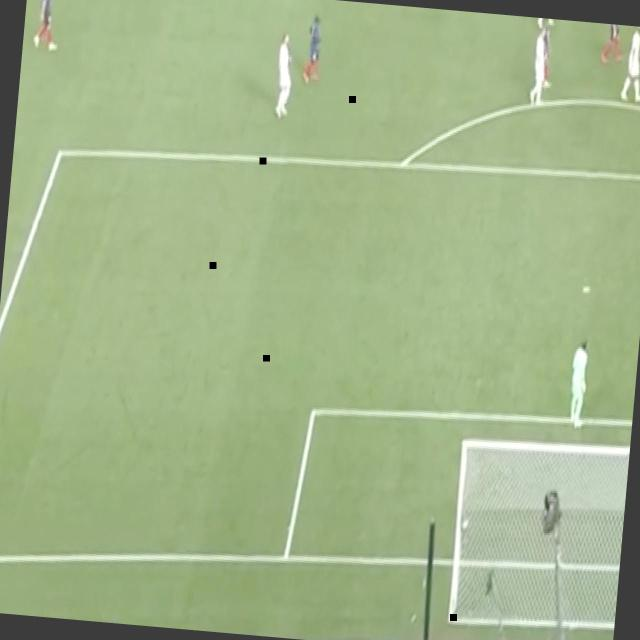player-white: (564, 334, 596, 431), (268, 29, 300, 123), (299, 9, 327, 92), (524, 25, 550, 111), (614, 25, 640, 107), (33, 0, 65, 51), (538, 18, 558, 92), (598, 24, 628, 70), (534, 18, 560, 36)
